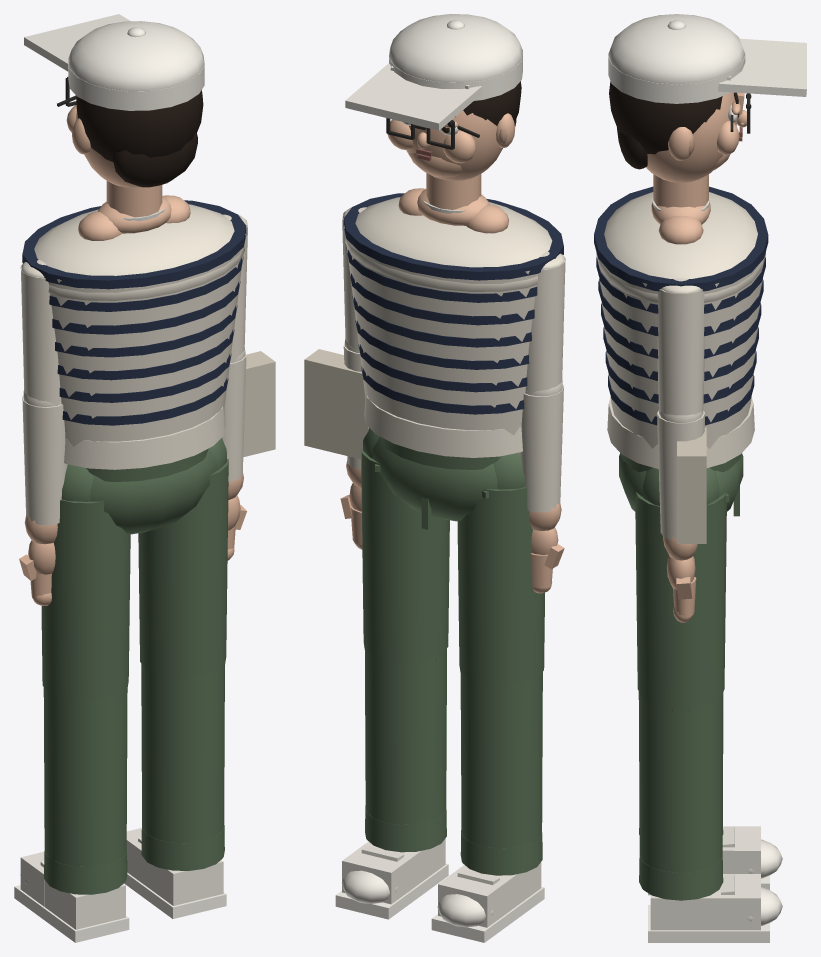
Rendered from female_2.glb.
3 views of the same model, side by side, from view 1: azimuth 30°, elevation 25°; view 2: azimuth 150°, elevation 25°; view 3: azimuth 270°, elevation 25° (orthographic).
Parts seen in each view (by area): view 1: Mesh_Torso, Mesh_ThighR, Mesh_ShinL, Mesh_ShinR, Mesh_ThighL, Mesh_Cap, Mesh_Hair, Mesh_Pelvis, Mesh_LowerArmR, Mesh_UpperArmR, Mesh_FootR, Mesh_Neck (+9 smaller); view 2: Mesh_Torso, Mesh_ShinR, Mesh_ThighR, Mesh_ShinL, Mesh_ThighL, Mesh_Cap, Mesh_Pelvis, Mesh_Bag, Mesh_LowerArmR, Mesh_Head, Mesh_UpperArmR, Mesh_Neck (+10 smaller); view 3: Mesh_Torso, Mesh_ShinL, Mesh_ThighL, Mesh_Cap, Mesh_UpperArmL, Mesh_Head, Mesh_Hair, Mesh_FootL, Mesh_LowerArmL, Mesh_Neck, Mesh_ToeL, Mesh_Bag (+3 smaller).
Boxes of the visible parts, x1,y1,x2,y2 form: Mesh_Torso: (22, 200, 246, 469); Mesh_ThighR: (41, 464, 130, 701); Mesh_ShinL: (141, 664, 224, 870); Mesh_ShinR: (43, 687, 127, 894); Mesh_ThighL: (138, 438, 228, 677); Mesh_Cap: (24, 14, 204, 110); Mesh_Hair: (76, 90, 203, 187); Mesh_Pelvis: (86, 448, 216, 534); Mesh_LowerArmR: (22, 390, 67, 544); Mesh_UpperArmR: (20, 259, 61, 404); Mesh_FootR: (14, 880, 129, 942); Mesh_Neck: (78, 181, 190, 240); Mesh_Torso: (343, 193, 563, 457); Mesh_ShinR: (460, 672, 542, 875); Mesh_ThighR: (457, 452, 544, 685); Mesh_ShinL: (364, 649, 446, 852); Mesh_ThighL: (361, 428, 449, 662); Mesh_Cap: (345, 14, 522, 130); Mesh_Pelvis: (373, 436, 501, 529); Mesh_Bag: (304, 349, 368, 459); Mesh_LowerArmR: (519, 380, 563, 530); Mesh_Head: (388, 110, 515, 180); Mesh_UpperArmR: (525, 251, 565, 393); Mesh_Neck: (398, 173, 508, 233); Mesh_Torso: (594, 186, 768, 468); Mesh_ShinL: (638, 691, 723, 900); Mesh_ThighL: (635, 467, 726, 707); Mesh_Cap: (608, 14, 806, 103); Mesh_UpperArmL: (657, 278, 704, 415); Mesh_Head: (646, 92, 746, 182); Mesh_Hair: (609, 81, 722, 169); Mesh_FootL: (648, 894, 769, 942); Mesh_LowerArmL: (657, 410, 705, 560); Mesh_Neck: (651, 174, 710, 244); Mesh_ToeL: (713, 874, 782, 930); Mesh_Bag: (677, 427, 706, 543).
Size of the model in its own units: 0.5388 by 1.82 by 0.3975.
